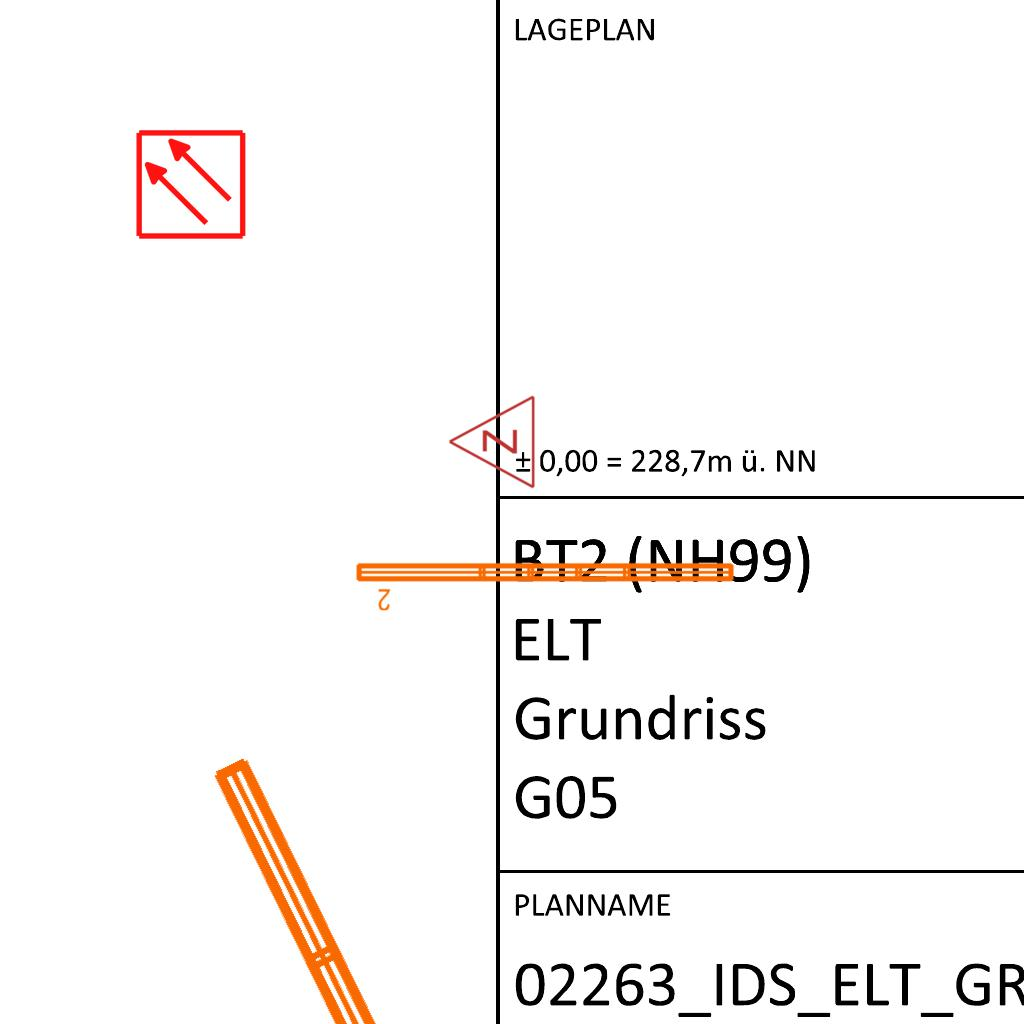Ambulanz_Pendelleuchte_LED: (197, 719, 637, 1024), (352, 557, 739, 613)
RMO_Rauchmelder_optischer: (134, 128, 247, 241)
Zimmersignalleuchte: (442, 394, 542, 492)
